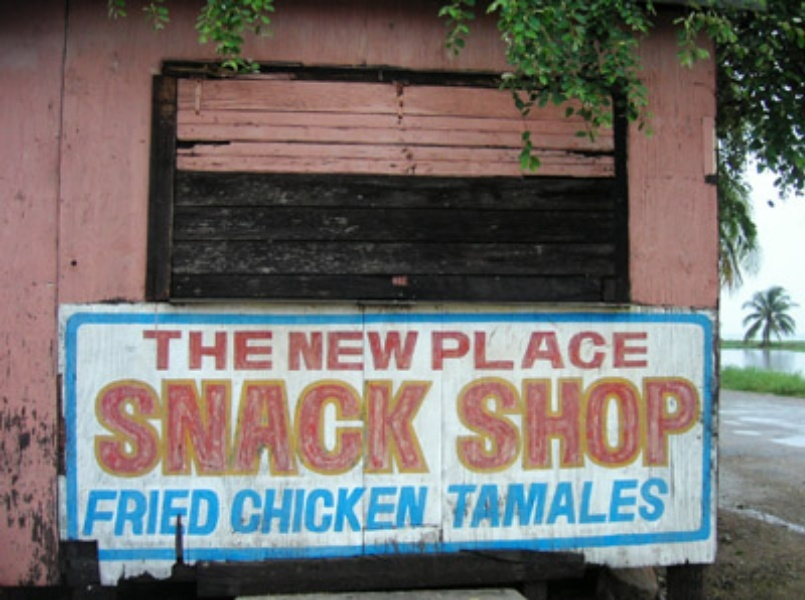text: (417, 375, 433, 480), (97, 375, 112, 480), (113, 375, 128, 480), (129, 375, 144, 480), (145, 375, 160, 480), (161, 375, 176, 480), (177, 375, 192, 480), (193, 375, 208, 480), (209, 375, 224, 480), (225, 375, 240, 480), (241, 375, 256, 480), (257, 375, 272, 480), (273, 375, 288, 480), (289, 375, 304, 480), (305, 375, 320, 480), (321, 375, 336, 480), (337, 375, 352, 480), (353, 375, 368, 480), (369, 375, 384, 480), (385, 375, 400, 480), (401, 375, 416, 480), (465, 375, 480, 474), (481, 375, 496, 474), (497, 375, 512, 474), (513, 375, 528, 474), (529, 375, 544, 474), (545, 375, 560, 474), (561, 375, 576, 474), (577, 375, 592, 474), (593, 375, 608, 474), (609, 375, 624, 474), (625, 375, 640, 474), (641, 375, 656, 474), (657, 375, 672, 474), (673, 375, 688, 474), (689, 375, 701, 474), (455, 375, 464, 474), (449, 476, 464, 530), (465, 476, 480, 530), (481, 476, 496, 530), (497, 476, 512, 530), (513, 476, 528, 530), (529, 476, 544, 530), (545, 476, 560, 530), (561, 476, 576, 530), (577, 476, 592, 530), (593, 476, 608, 530), (609, 476, 624, 530), (625, 476, 640, 530), (641, 476, 656, 530), (241, 484, 256, 536), (257, 484, 272, 536), (273, 484, 288, 536), (289, 484, 304, 536), (305, 484, 320, 536), (321, 484, 336, 536), (337, 484, 352, 536), (353, 484, 368, 536), (369, 484, 384, 536), (385, 484, 400, 536), (401, 484, 416, 536), (97, 488, 112, 538), (113, 488, 128, 538), (129, 488, 144, 538), (145, 488, 160, 538), (161, 488, 176, 538), (177, 488, 192, 538), (193, 488, 208, 538), (145, 329, 160, 373), (161, 329, 176, 373), (177, 329, 192, 373), (193, 329, 208, 373), (209, 329, 224, 373), (225, 329, 240, 373), (241, 329, 256, 373), (257, 329, 272, 373), (289, 329, 304, 373), (305, 329, 320, 373), (321, 329, 336, 373), (337, 329, 352, 373), (353, 329, 368, 373), (369, 329, 384, 373), (385, 329, 400, 373), (401, 329, 416, 373), (433, 329, 448, 373), (449, 329, 464, 373), (465, 329, 480, 373), (481, 329, 496, 373), (497, 329, 512, 373), (513, 329, 528, 373), (529, 329, 544, 373), (545, 329, 560, 373), (561, 329, 576, 373), (577, 329, 592, 373), (593, 329, 608, 373), (609, 329, 624, 373), (625, 329, 640, 373), (657, 476, 669, 530), (417, 484, 429, 536), (209, 488, 220, 538), (87, 488, 96, 538), (641, 329, 651, 373), (232, 484, 240, 536), (93, 375, 96, 480), (417, 329, 421, 373), (445, 476, 448, 530), (141, 329, 144, 373), (429, 329, 432, 373), (286, 329, 288, 373), (273, 329, 274, 373)
